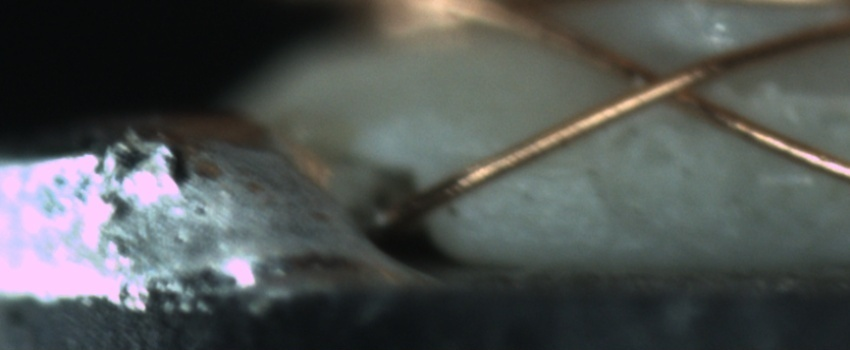CL: (599, 50, 732, 116)
